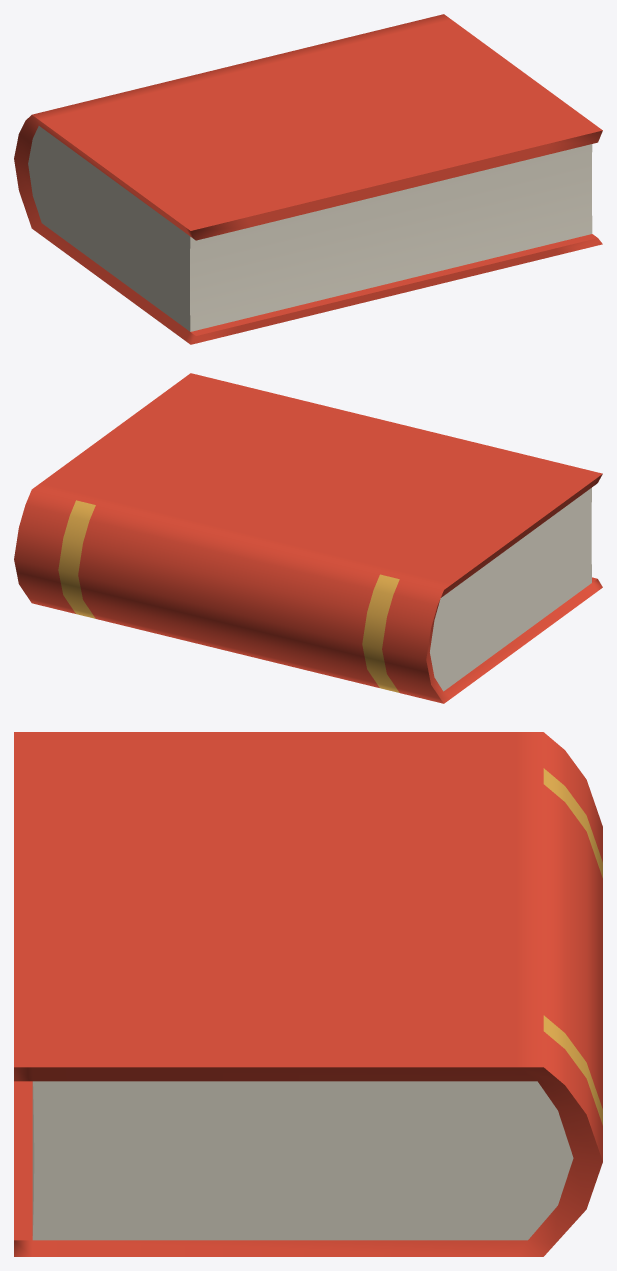
File: Book.fbx
The picture shows the model from 3 angles, top to bottom: view 1: azimuth 30°, elevation 25°; view 2: azimuth 150°, elevation 25°; view 3: azimuth 270°, elevation 25°; orthographic projection. The views are drawn at different scales.
Parts seen in each view (by area): view 1: Book; view 2: Book; view 3: Book.
Part boxes in pixels (<box>): Book: <box>14,14,602,344</box>; Book: <box>14,373,602,703</box>; Book: <box>14,732,602,1256</box>.
Size of the model in its own units: 0.484 by 0.172 by 0.6516.
